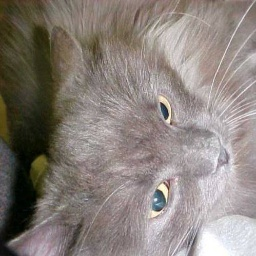cat: (3, 4, 256, 256)
